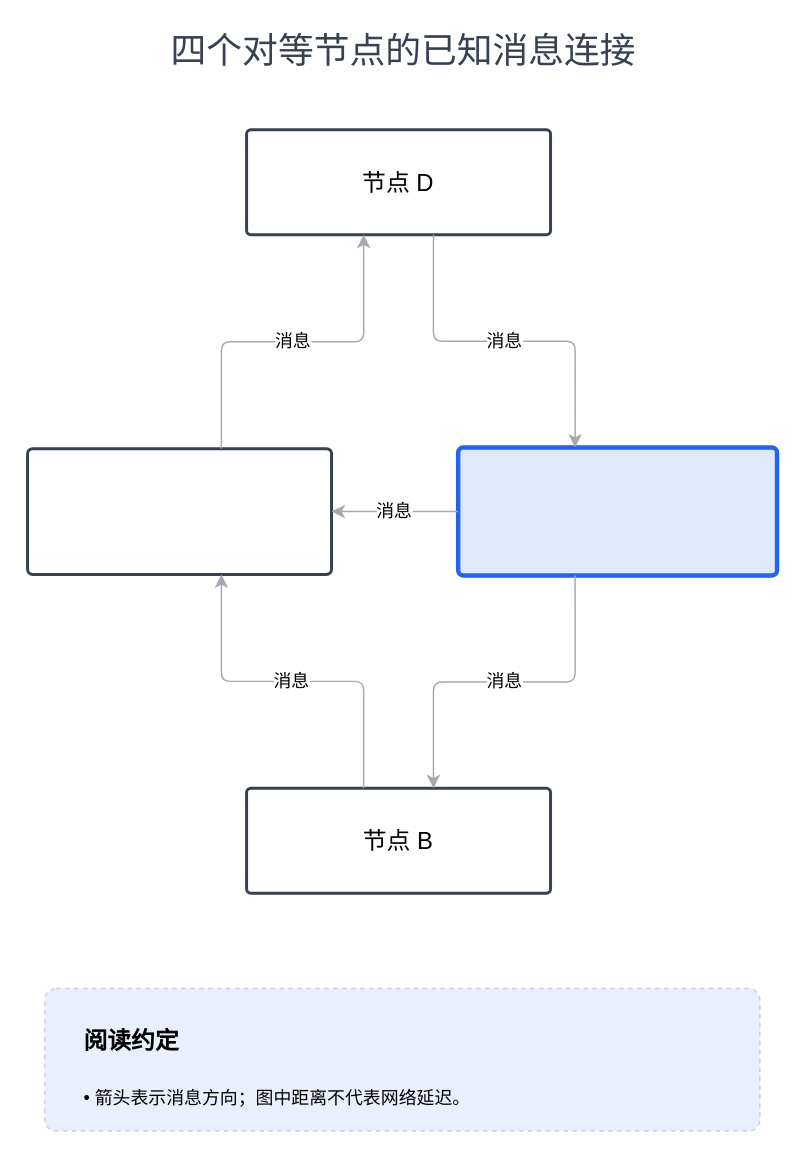
Some shapes in this 805 by 1158 pixel diagram are drawn without their labels. Here are the shapes that lost their labels. From the top down, the centre of each, then its label:
At [178,510]: "节点 C".
At [617,511]: "节点 A".
